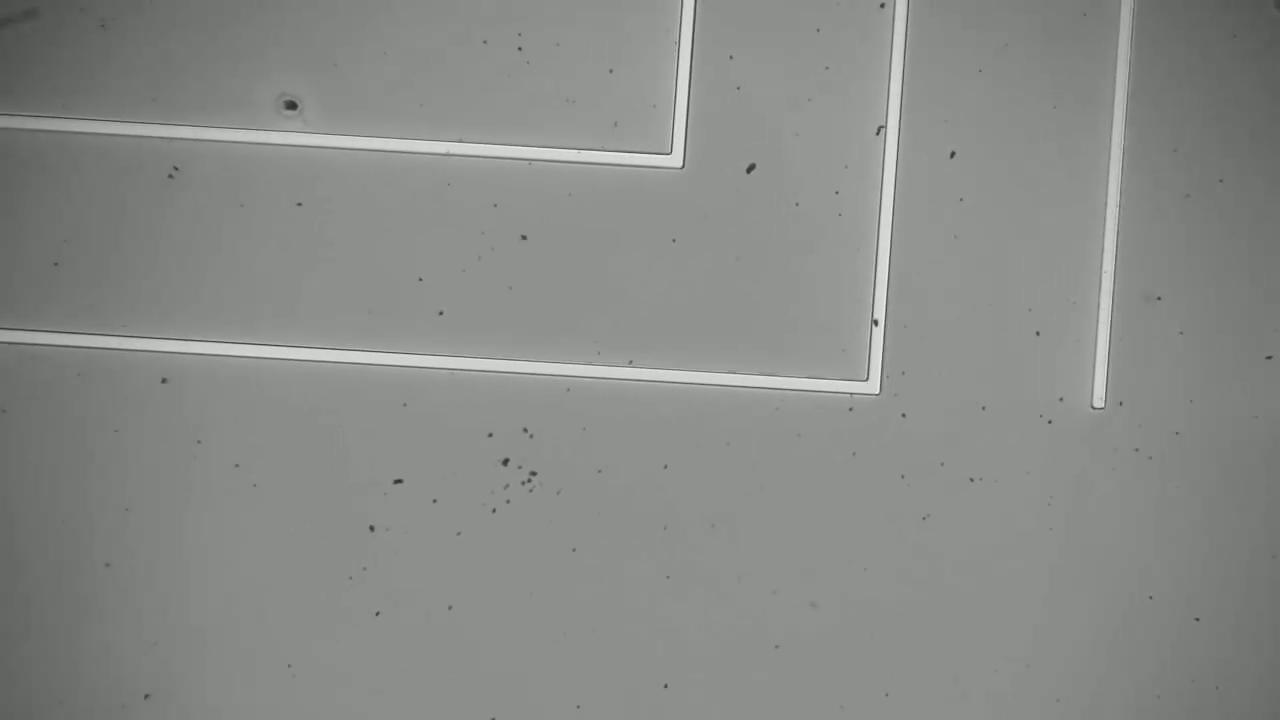stains_enbedded: (865, 312, 890, 329)
